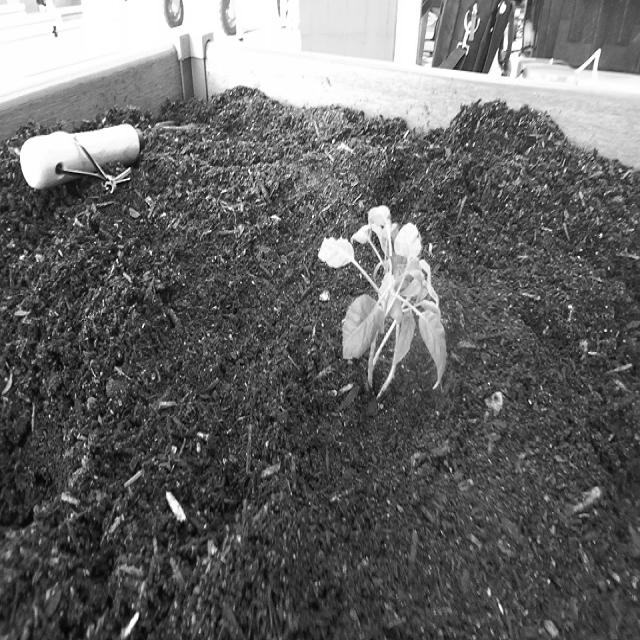Healthy: (316, 202, 450, 406)
